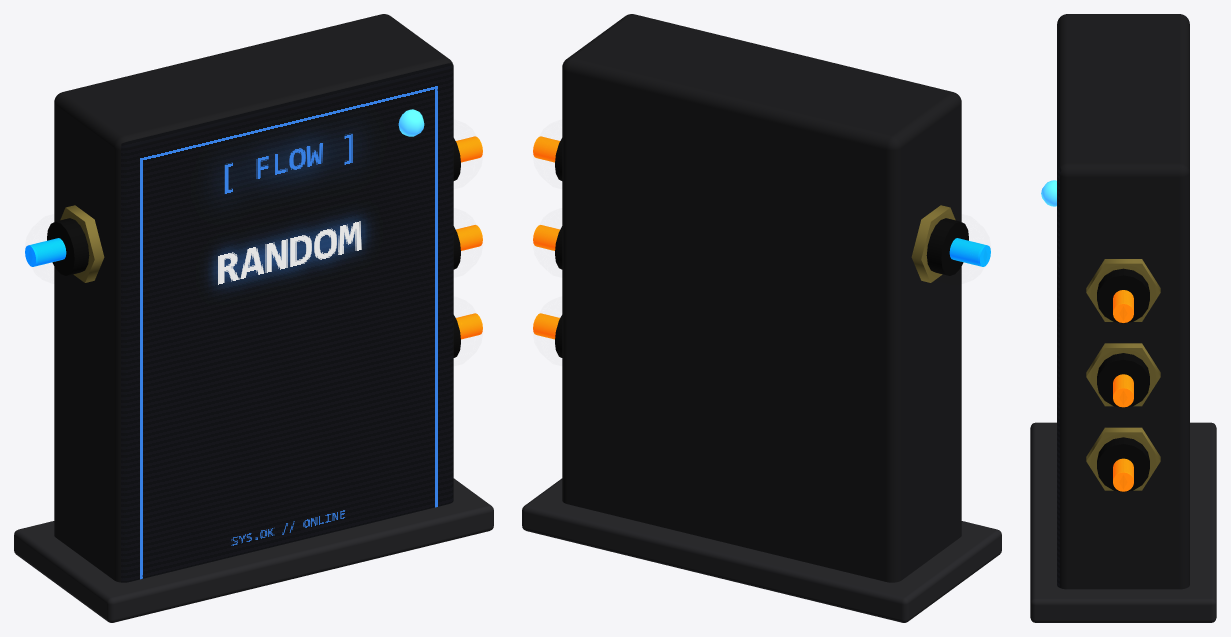
The model's file is flow_random.glb.
The picture shows the model from 3 angles, left to right: view 1: azimuth 30°, elevation 25°; view 2: azimuth 150°, elevation 25°; view 3: azimuth 270°, elevation 25°; orthographic projection. The views are drawn at different scales.
Visible parts, largest first — view 1: chassis, bracket, socket, hex_nut, pin; view 2: chassis, bracket, socket, hex_nut, pin; view 3: chassis, bracket, socket (×3), hex_nut (×3), pin (×3), status_led.
Boxes of the visible parts, x1,y1,x2,y2 form: chassis: (54, 14, 453, 582); bracket: (14, 478, 493, 622); socket: (47, 218, 89, 275); hex_nut: (60, 205, 104, 282); pin: (25, 238, 66, 266); chassis: (562, 14, 961, 582); bracket: (522, 478, 1001, 622); socket: (926, 218, 968, 275); hex_nut: (911, 205, 955, 282); pin: (949, 238, 990, 266); chassis: (1057, 14, 1189, 589); bracket: (1030, 422, 1216, 622); socket (×3): (1097, 268, 1149, 492); hex_nut (×3): (1086, 259, 1160, 490); pin (×3): (1113, 290, 1133, 491); status_led: (1041, 180, 1056, 206).
Bounding box in the file's own units: 1.86 × 1.85 × 0.7.
12 materials, 1 textured.
